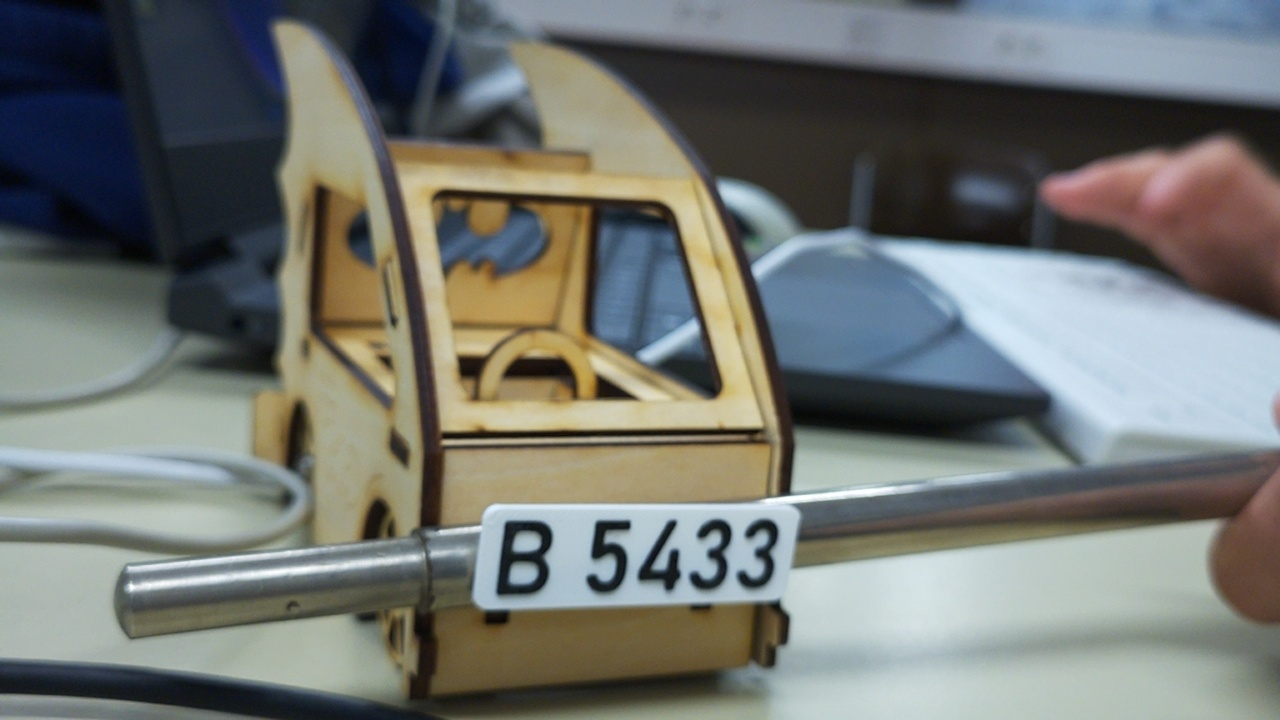license_plate: (467, 501, 803, 616)
